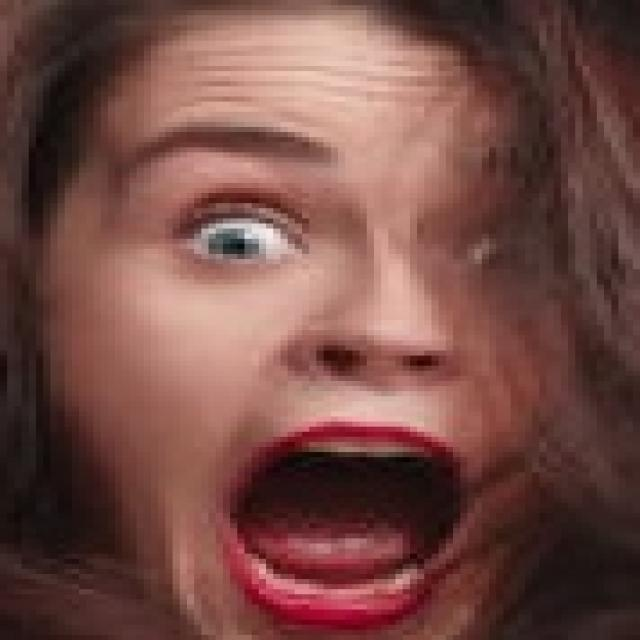Anxiety: (37, 10, 568, 635)
